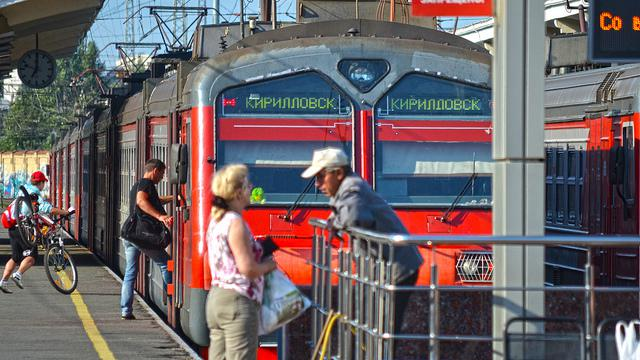Train: (47, 17, 494, 346), (544, 62, 640, 292)
